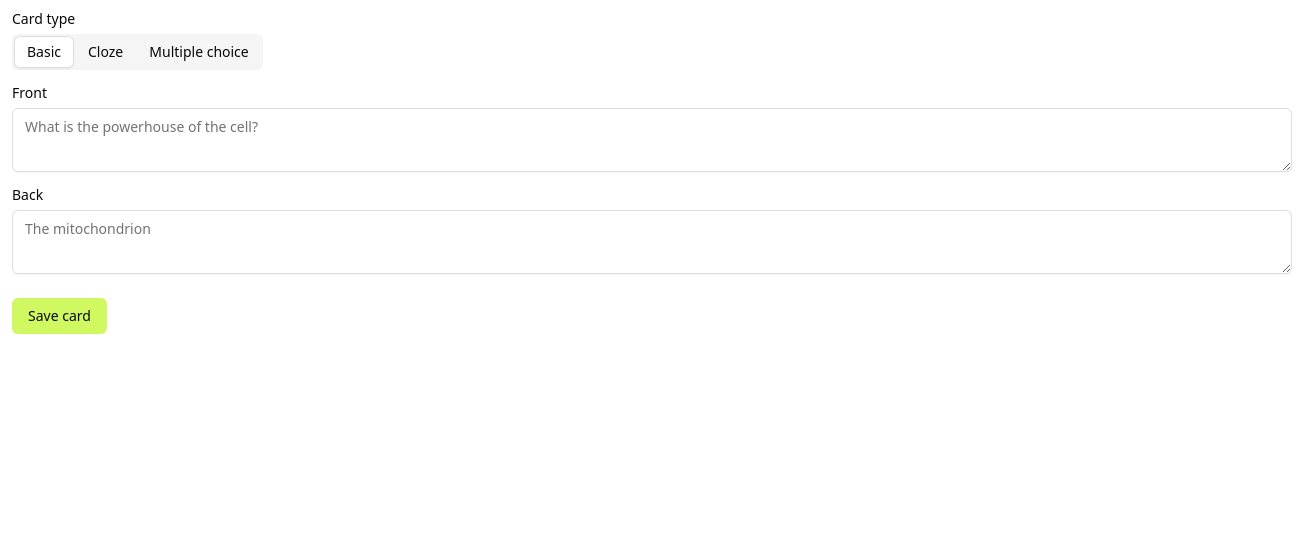
Test case: switching card type › keeps text that means the same thing on the other side
Type "Capital of France" into the text box labelled "Front" at coordinates (652, 140), box [12, 108, 1292, 172]
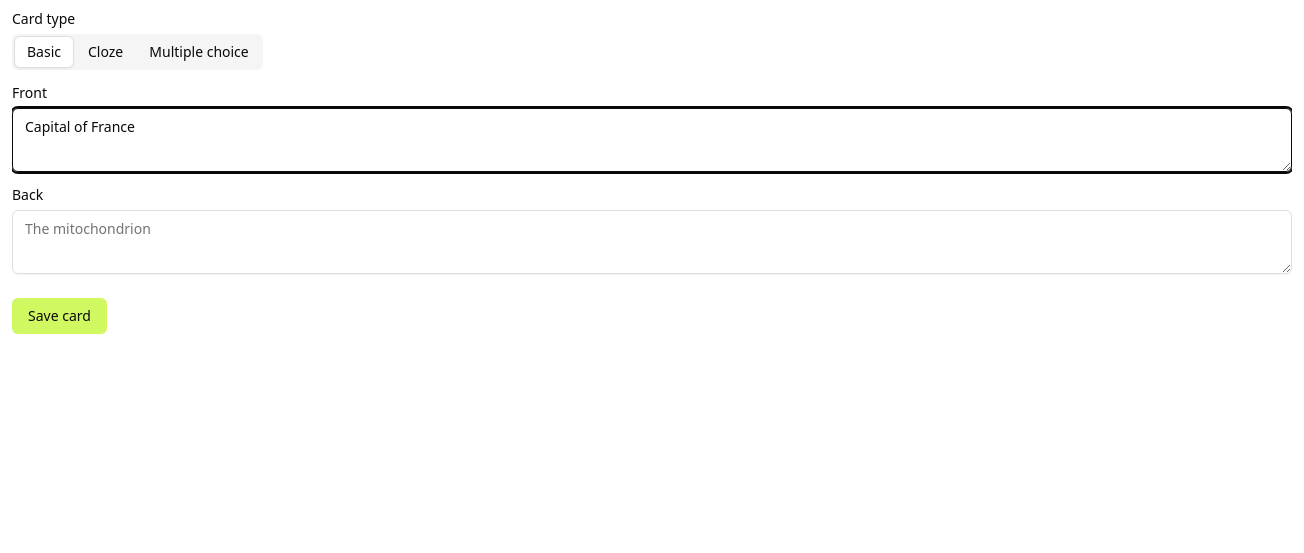
Type "Paris" into the text box labelled "Back" at coordinates (652, 242), box [12, 210, 1292, 274]
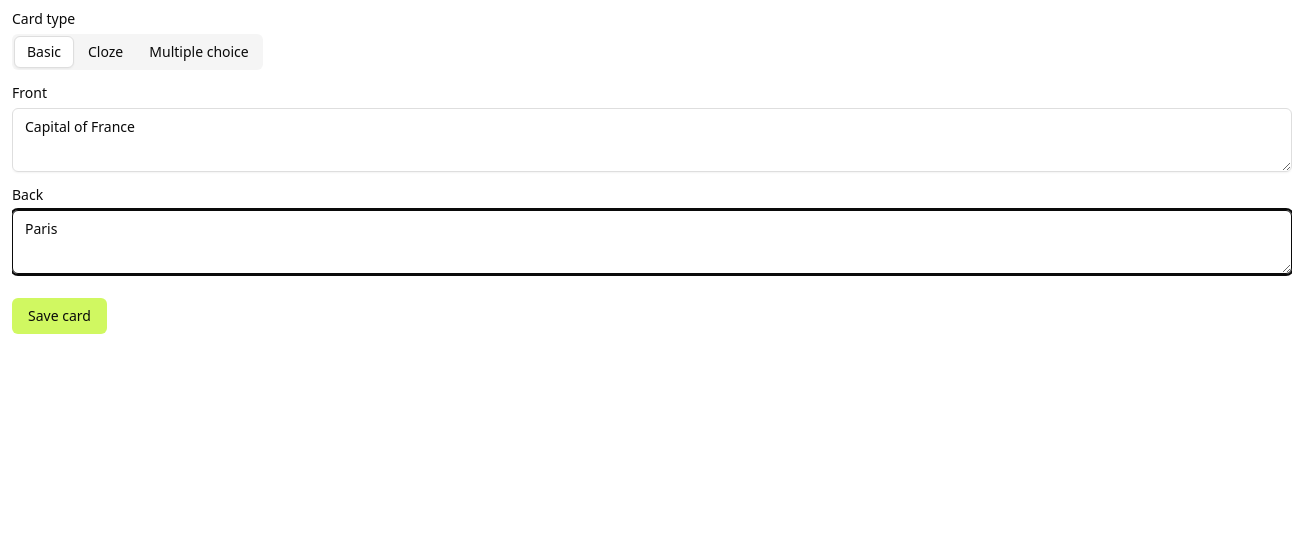
Click the button "Multiple choice" at coordinates (199, 52), box [137, 36, 261, 68]
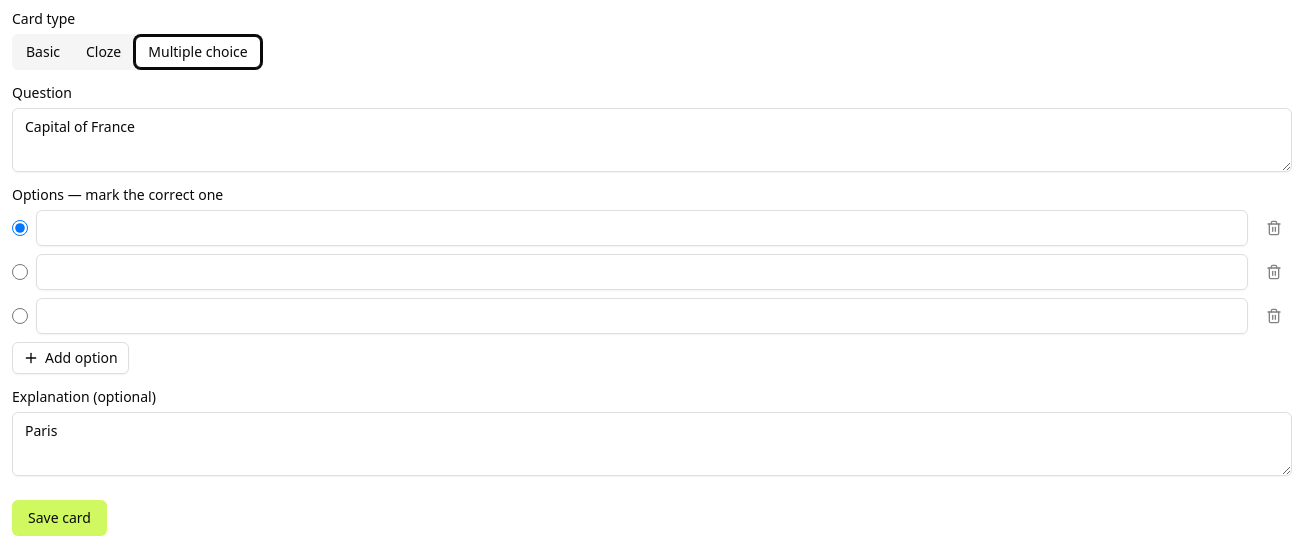
Expected: the text box labelled "Question" holds "Capital of France", [12, 108, 1292, 172]
Now the text box labelled "Explanation (optional)" holds "Paris", box [12, 412, 1292, 476]
Click the button "Basic" at coordinates (43, 52), box [14, 36, 72, 68]
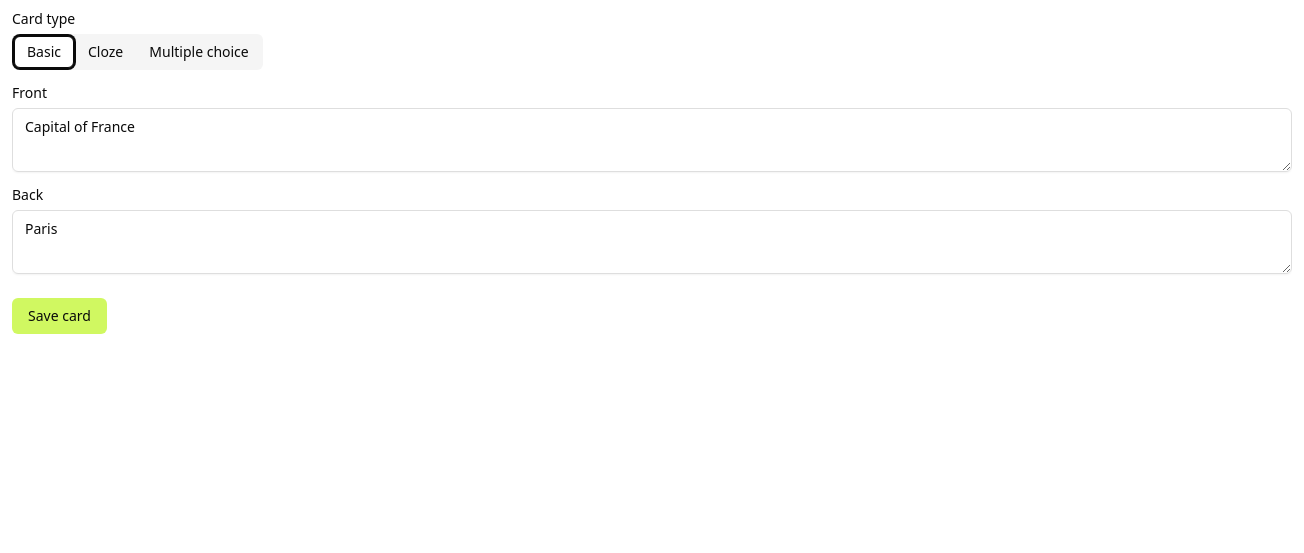
Expected: the text box labelled "Front" holds "Capital of France", [12, 108, 1292, 172]
Now the text box labelled "Back" holds "Paris", box [12, 210, 1292, 274]
